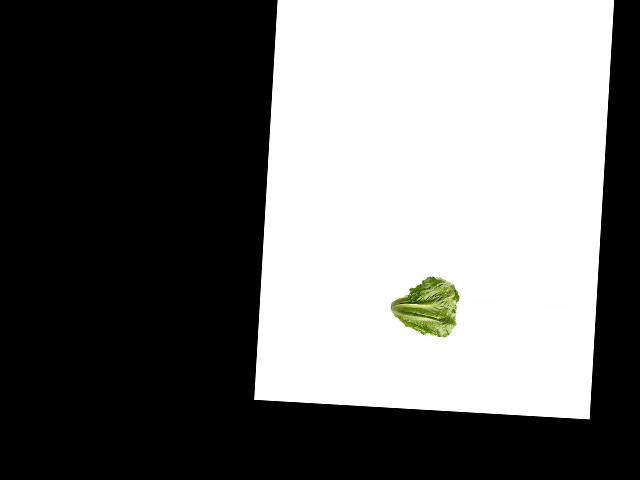lettuce: (385, 271, 461, 335)
